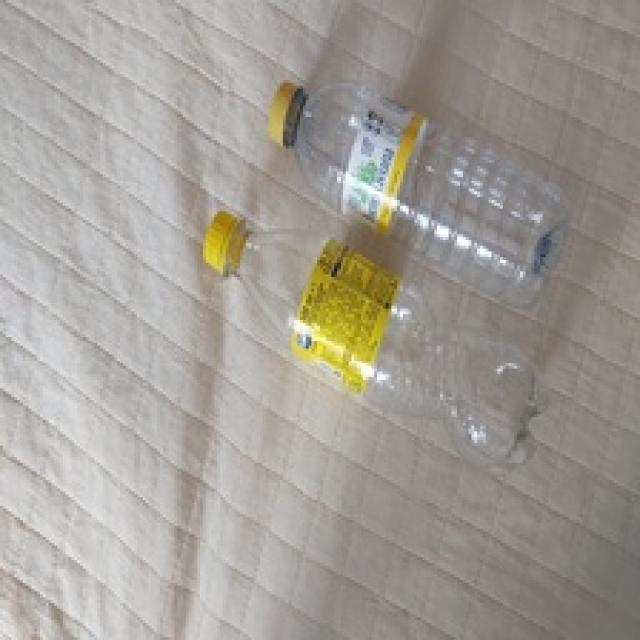Plastic: (199, 208, 549, 468), (266, 76, 572, 310)
